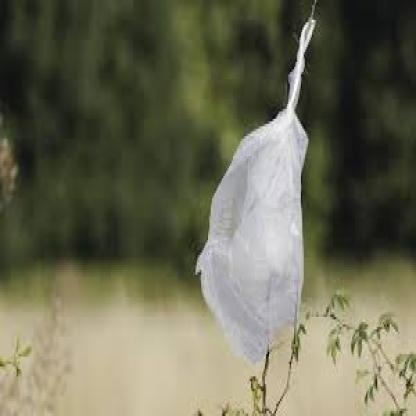trash: (196, 13, 315, 362)
